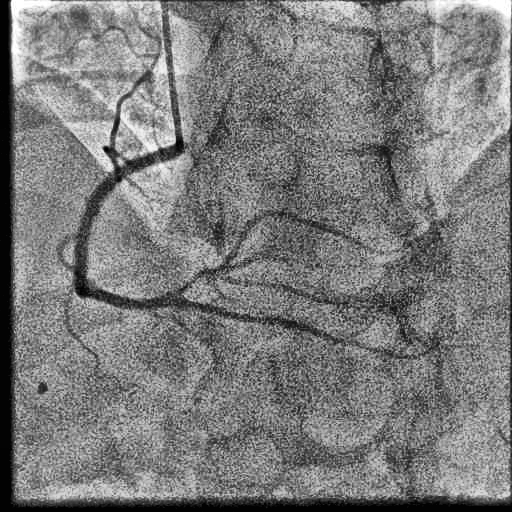pborca: (176, 210, 389, 296)
pda: (177, 299, 416, 359)
rca: (73, 145, 180, 309)
